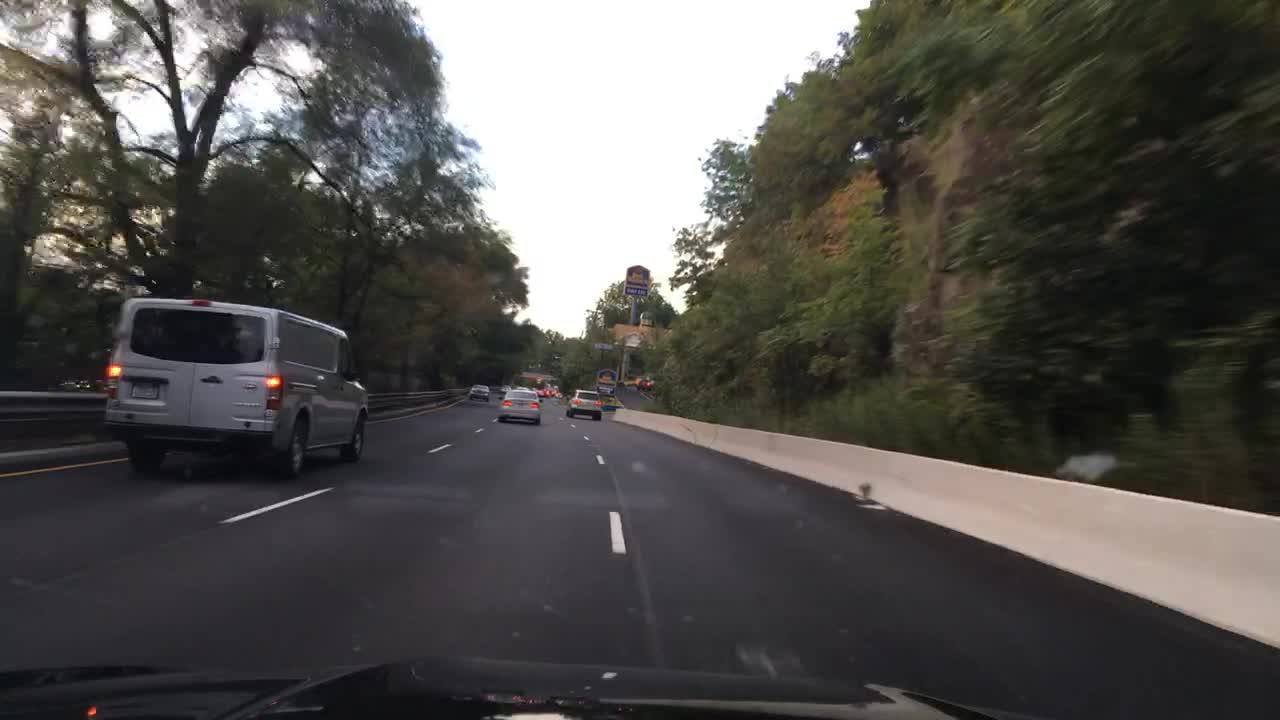car: (100, 297, 368, 473), (498, 393, 543, 424), (567, 390, 605, 421), (469, 382, 491, 398), (533, 381, 553, 396), (638, 380, 655, 392), (511, 383, 530, 390), (500, 386, 511, 394)
